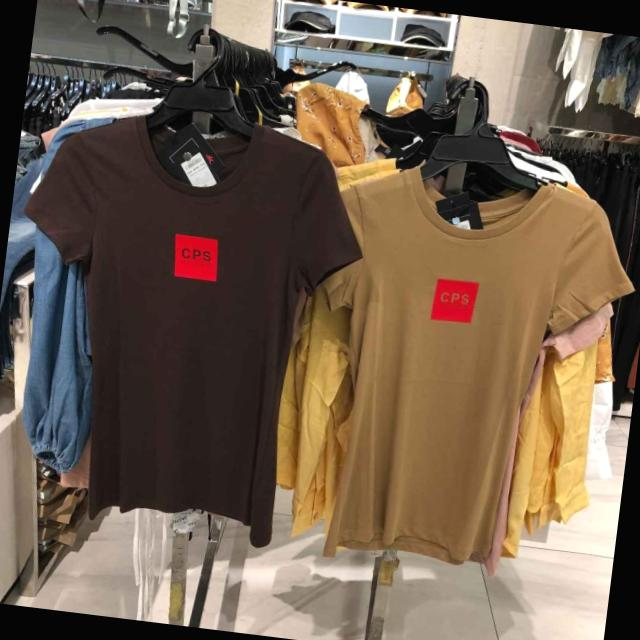Tshirt: (0, 96, 378, 562), (285, 142, 640, 591)
